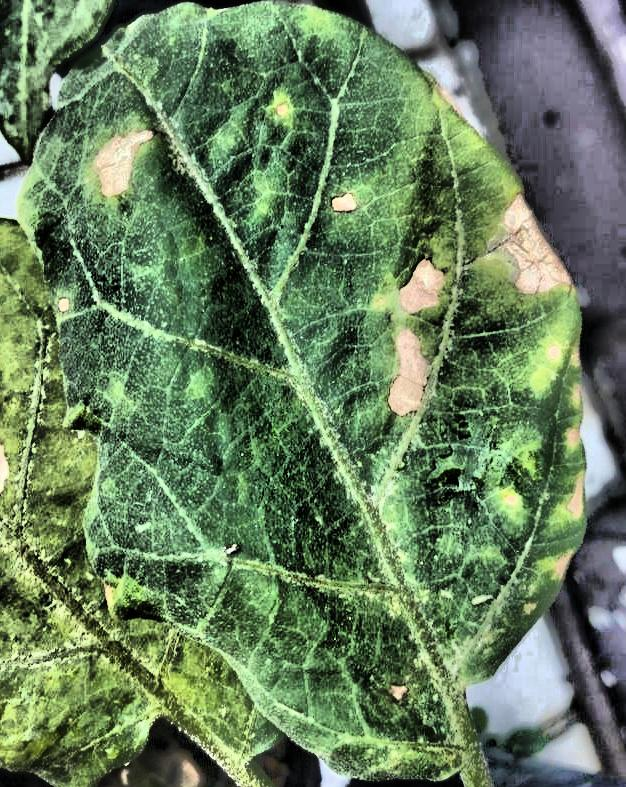Critical Stress: (0, 1, 626, 787)
